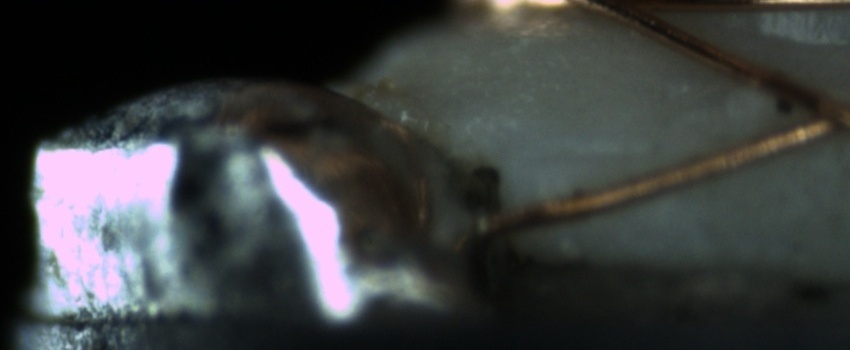CL: (758, 71, 847, 151)
DL: (530, 125, 665, 183)
